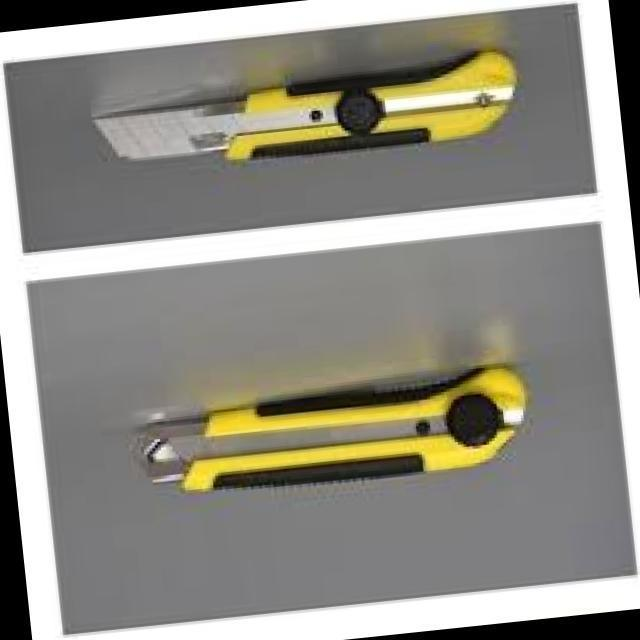cutter: (112, 343, 546, 520), (83, 34, 536, 188)
